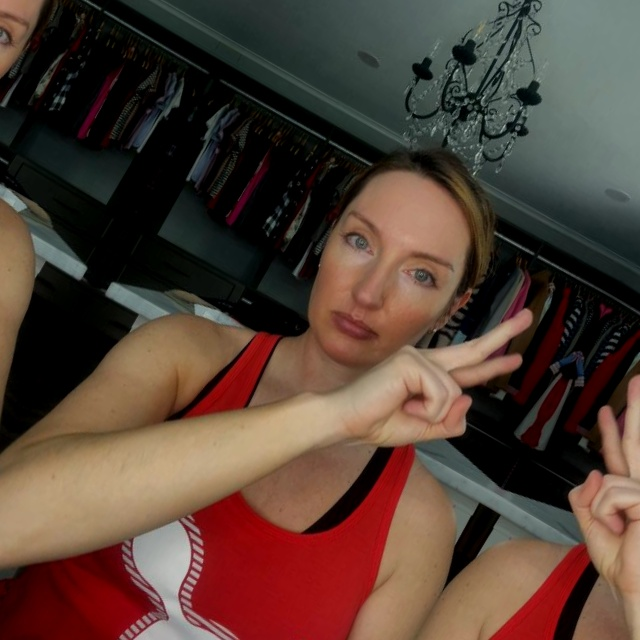Scissors: (323, 247, 545, 492)
